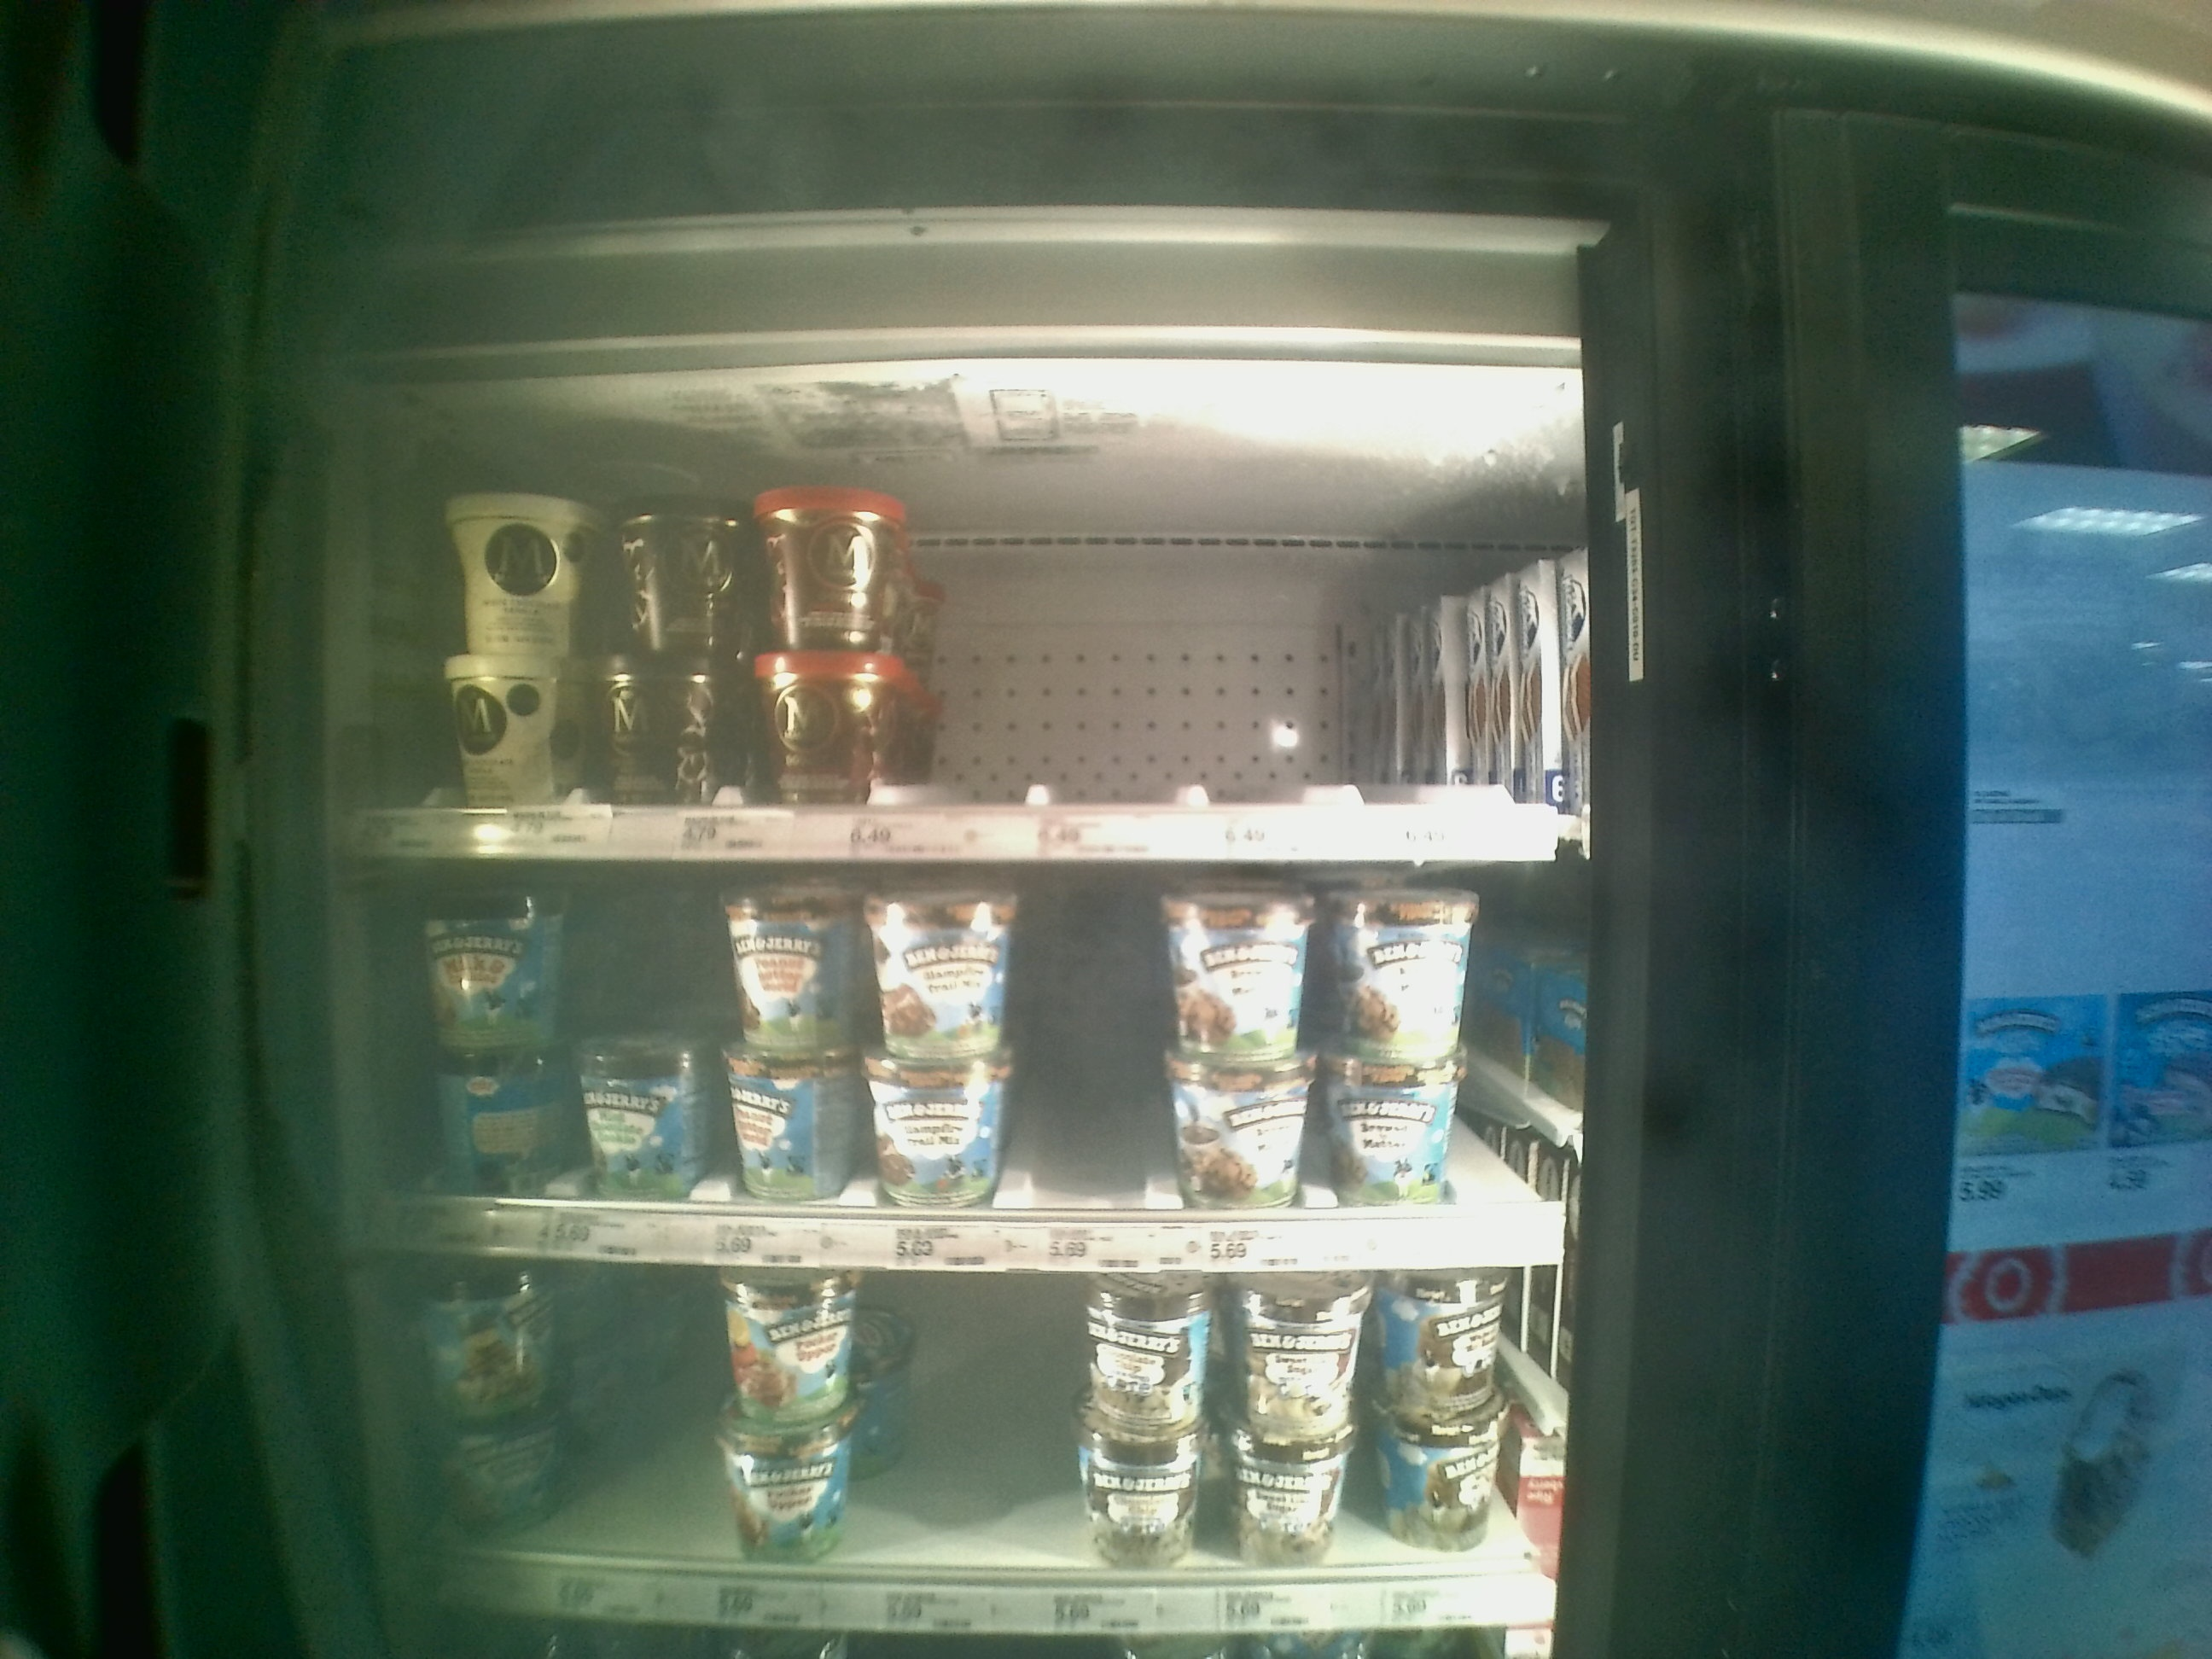ice-cream-shelf: (354, 387, 1578, 864), (348, 864, 1599, 1269), (341, 1270, 1566, 1629)
